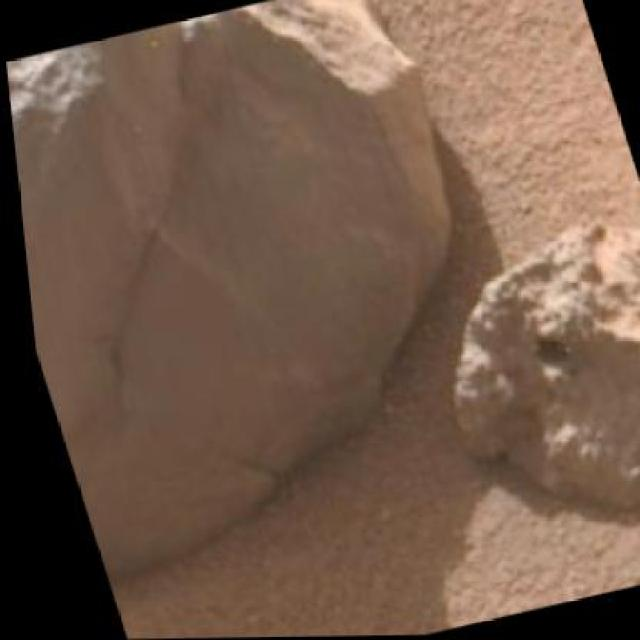rock: (0, 0, 565, 614), (388, 195, 638, 554)
